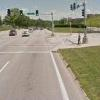Tree: (3, 5, 32, 26)
